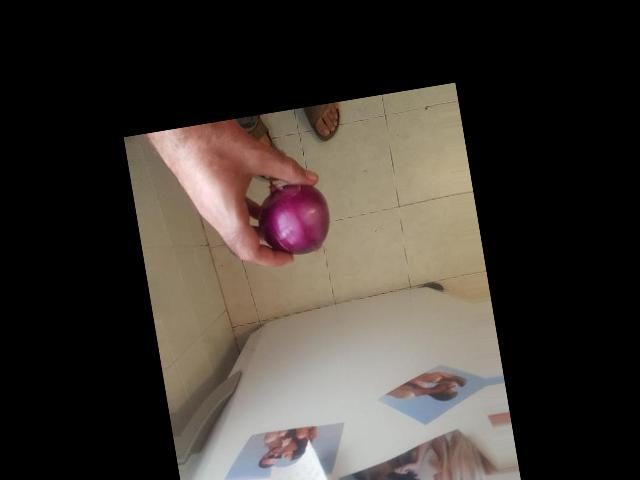onion: (242, 167, 338, 264)
